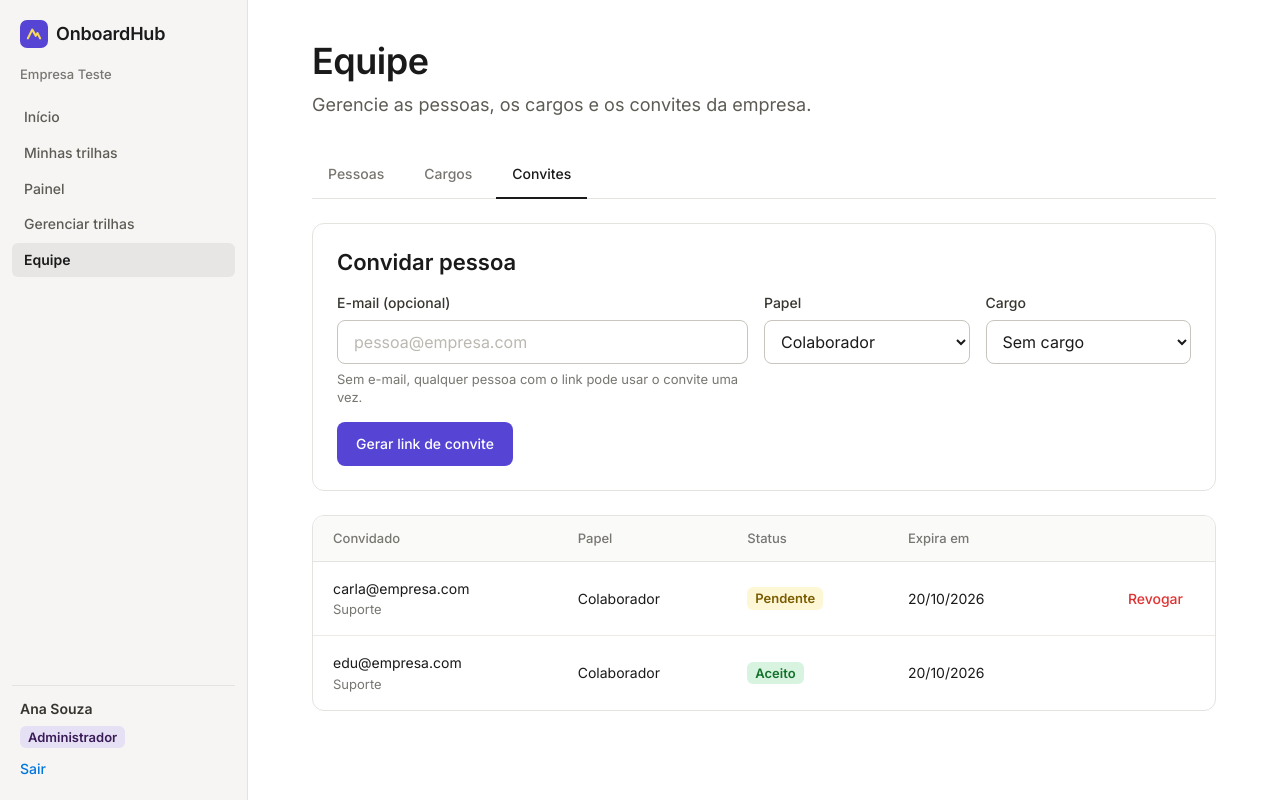
Scenario: equipe: convites › lista convites com status e revoga um pendente
Expected: the text "Pendente" is shown, [747,587,823,610]
Click the button "Revogar".
click(1155, 598)  # box [1116,582,1195,615]
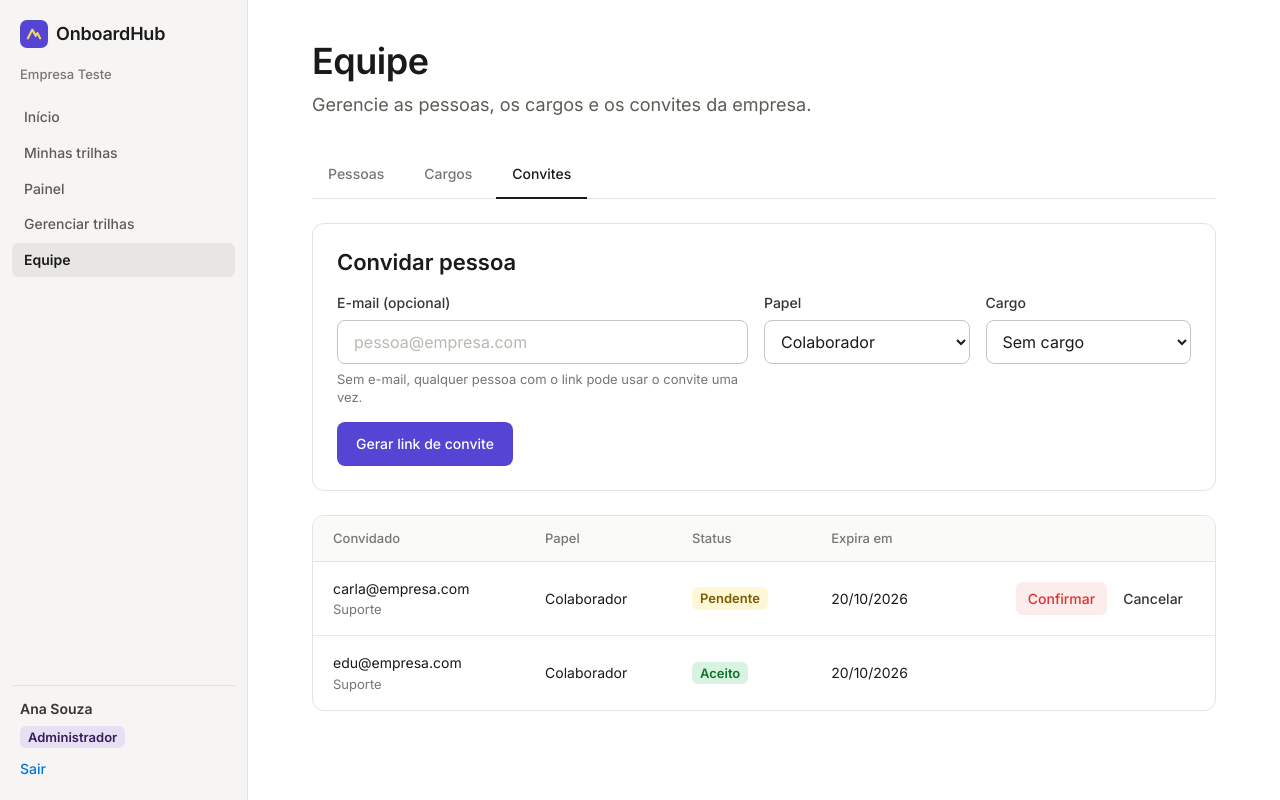
Click the button "Confirmar".
click(1061, 598)  # box [1016,582,1107,615]
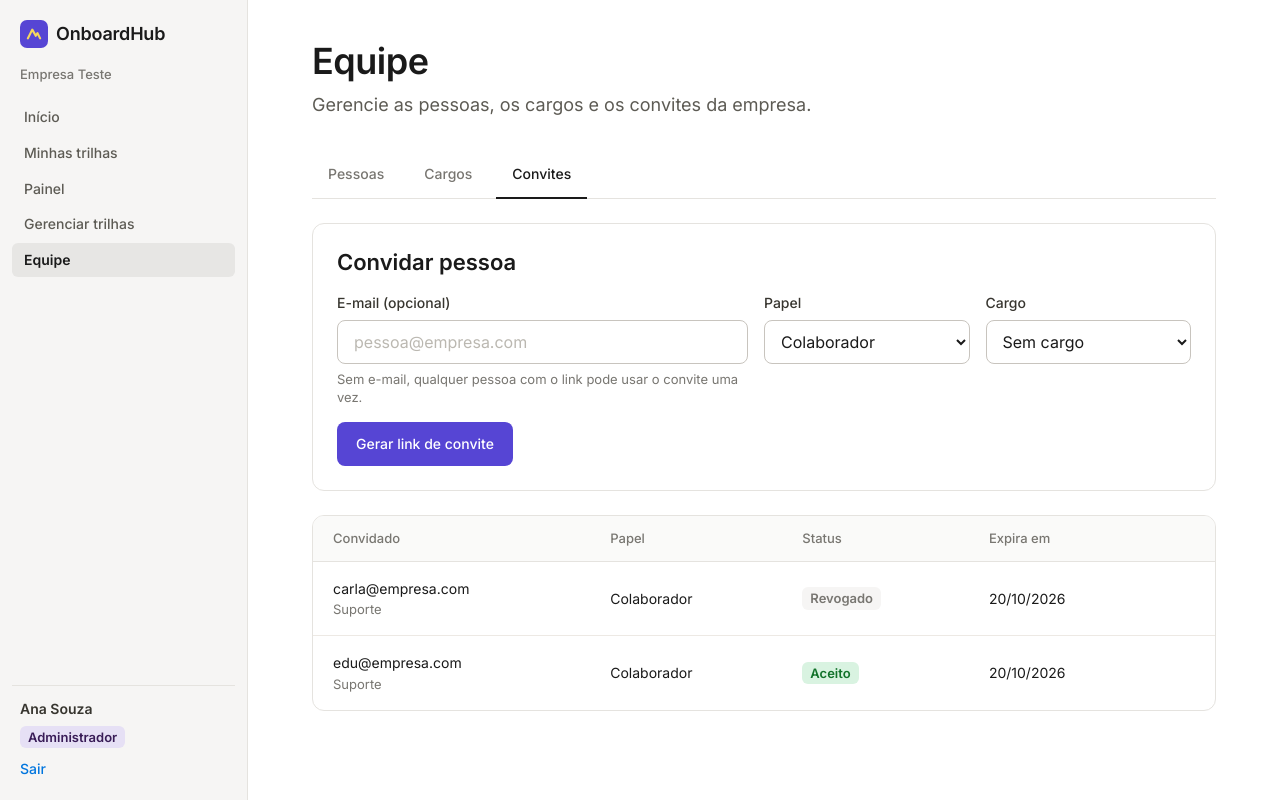
Expected: the text "Revogado" is shown, [802,587,881,610]
